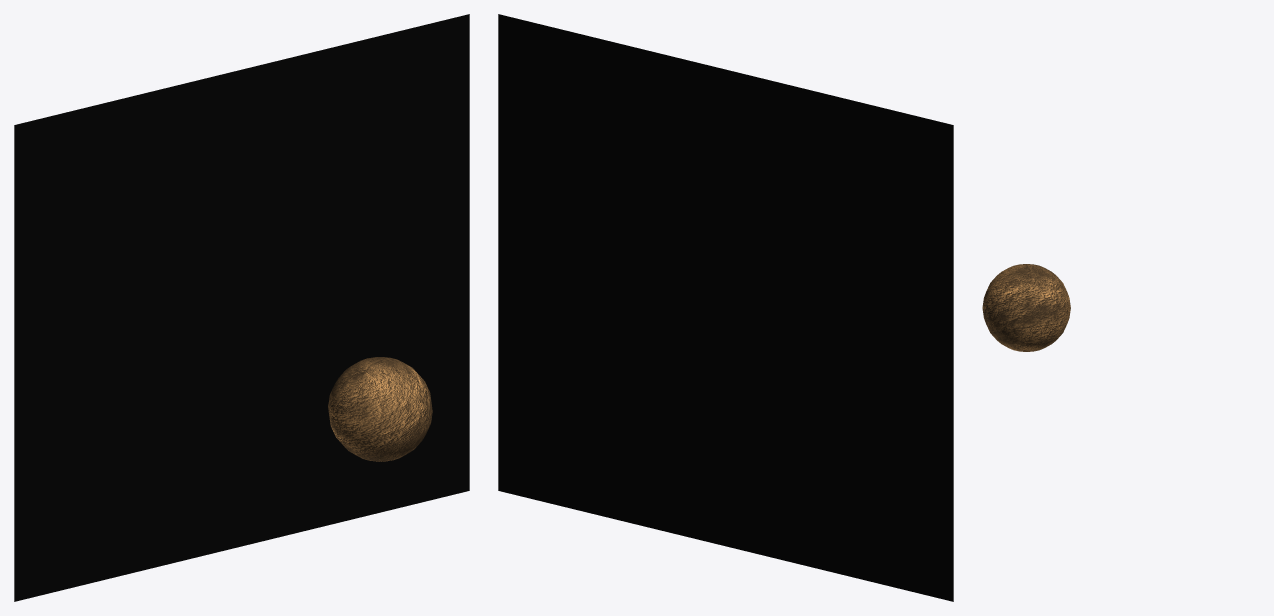
The model's file is planet.fbx.
3 views of the same model, side by side, from view 1: azimuth 30°, elevation 25°; view 2: azimuth 150°, elevation 25°; view 3: azimuth 270°, elevation 25° (orthographic). The views are drawn at different scales.
Visible parts, largest first — view 1: Plane, planet; view 2: Plane; view 3: planet.
Part boxes in pixels (x1=…): Plane: x1=14, y1=14, x2=469, y2=601; planet: x1=328, y1=357, x2=432, y2=461; Plane: x1=498, y1=14, x2=953, y2=601; planet: x1=982, y1=264, x2=1070, y2=351.
Size of the model in its own units: 1000 by 1000 by 626.
